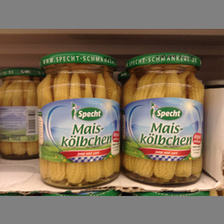corn: (36, 52, 122, 190), (122, 54, 208, 185), (1, 68, 40, 161)
